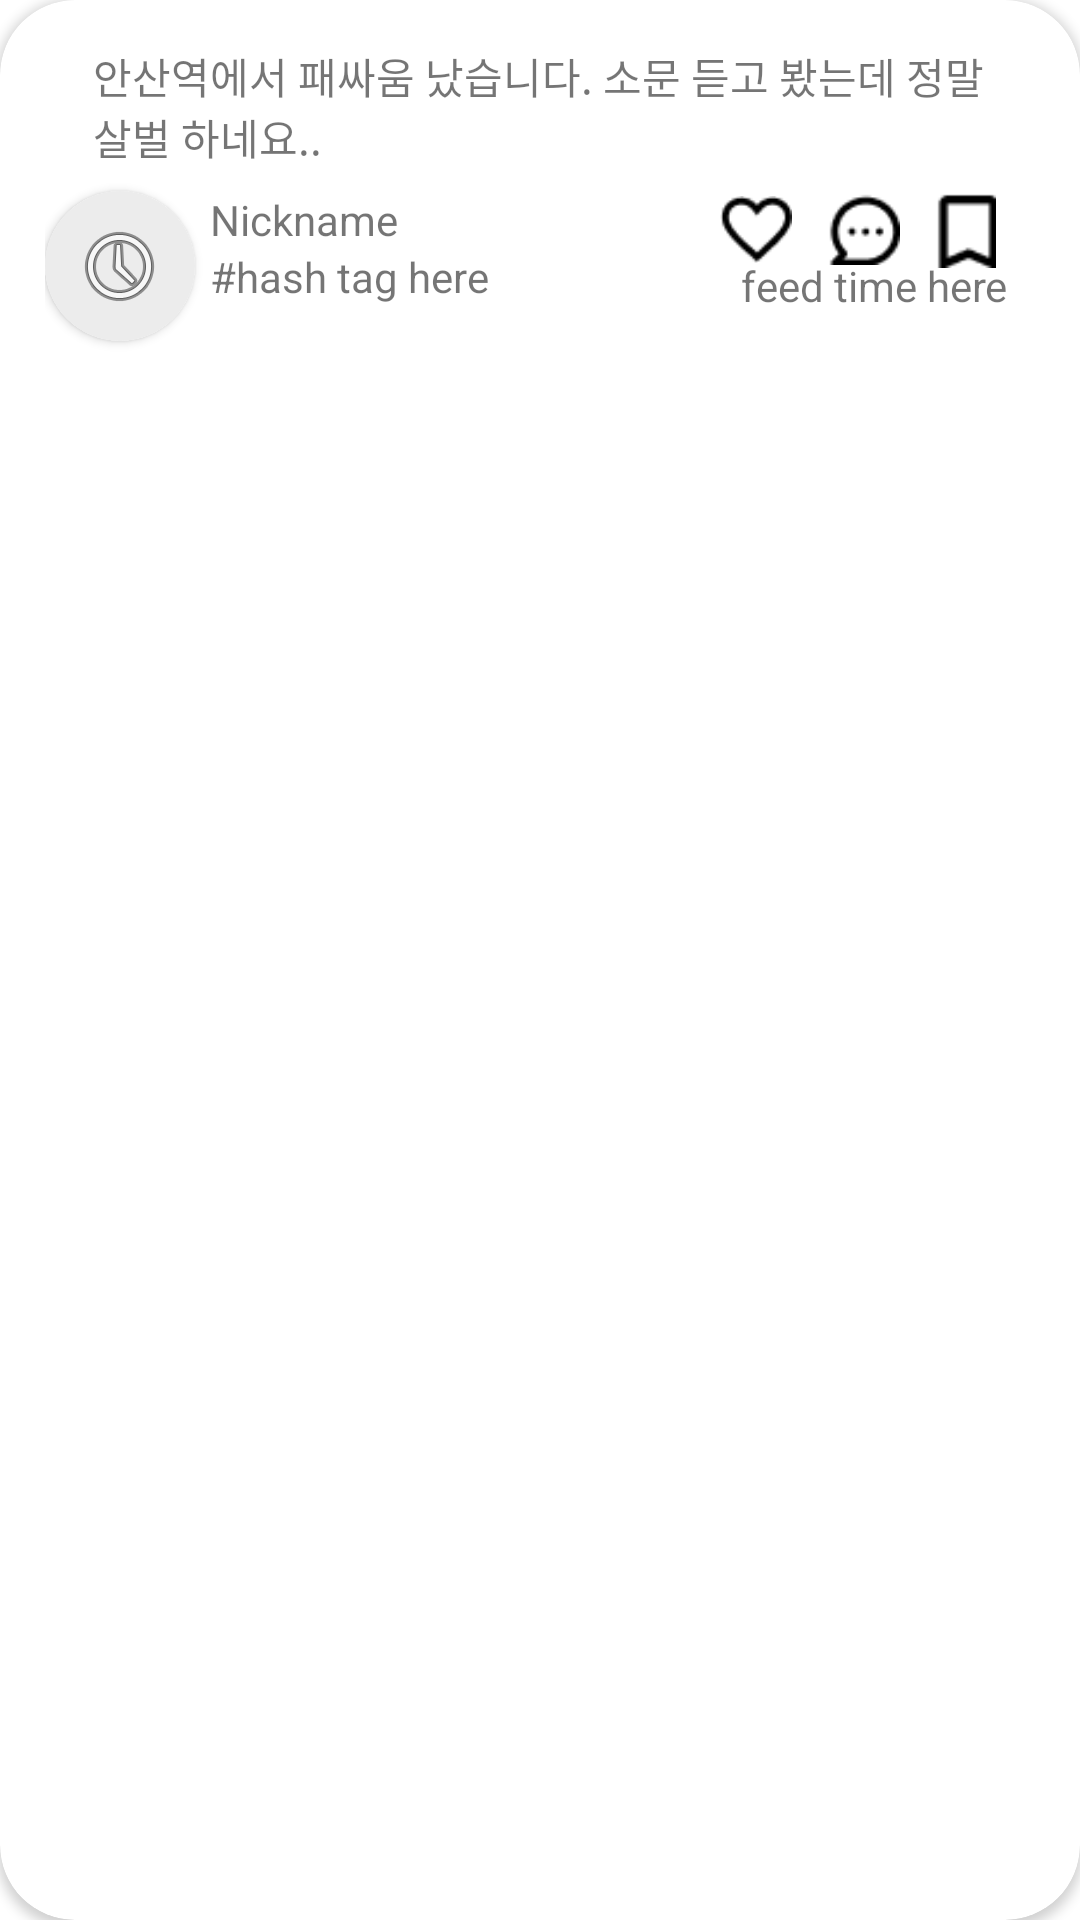

Icon bounding boxes for this 1080 × 1920 phone screenshot, format [left=x1, top=y1, right=x2, bottom=y2]:
recent history: [left=45, top=191, right=195, bottom=341]
댓글 버튼: [left=830, top=195, right=900, bottom=276]
북마크 버튼: [left=938, top=194, right=996, bottom=268]
좋아요 버튼: [left=721, top=196, right=792, bottom=263]
